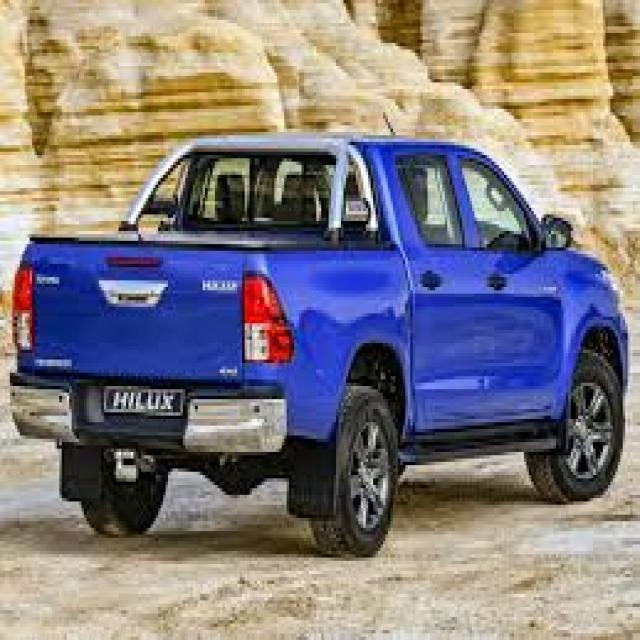Pickup Trucks: (10, 135, 630, 561)
